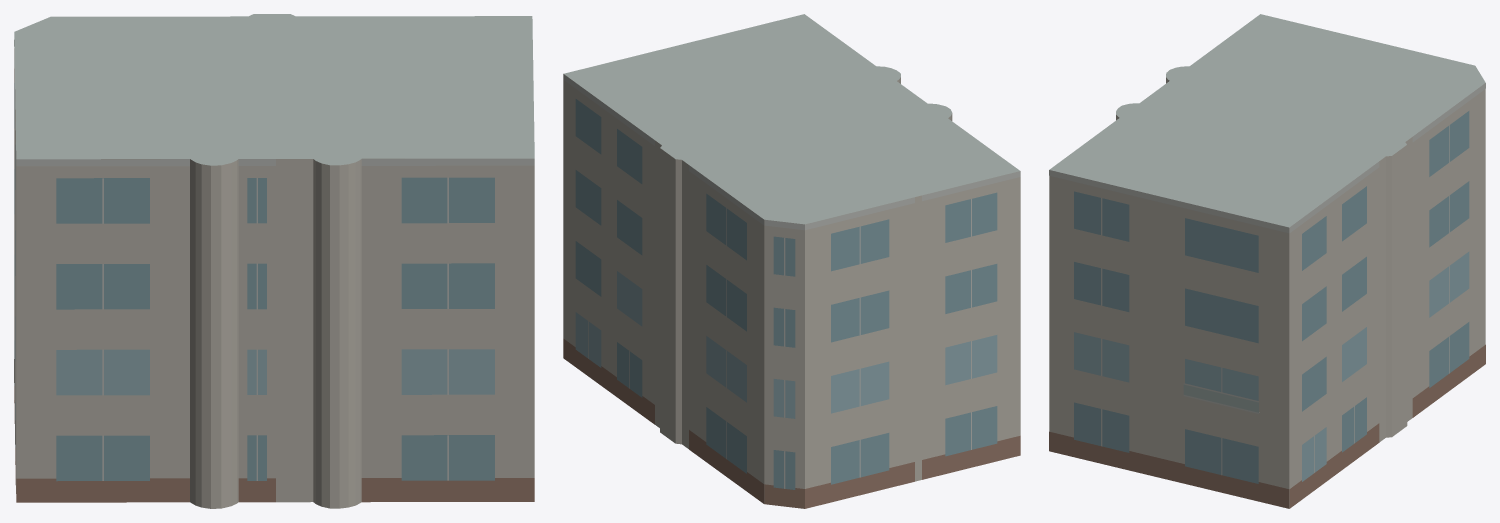
File: survey-upis-32722125.glb
The picture shows the model from 3 angles, left to right: view 1: azimuth 30°, elevation 25°; view 2: azimuth 150°, elevation 25°; view 3: azimuth 270°, elevation 25°; orthographic projection. The views are drawn at different scales.
Visible parts, largest first — view 1: survey-upis-32722125.tmp; view 2: survey-upis-32722125.tmp; view 3: survey-upis-32722125.tmp.
Boxes of the visible parts, x1,y1,x2,y2 form: survey-upis-32722125.tmp: [14, 14, 534, 508]; survey-upis-32722125.tmp: [563, 14, 1020, 508]; survey-upis-32722125.tmp: [1049, 14, 1485, 508].
Bounding box in the file's own units: 19.05 × 11.7 × 16.47.
